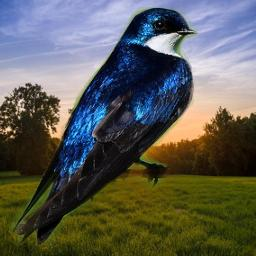Swallow: (11, 7, 198, 246)
